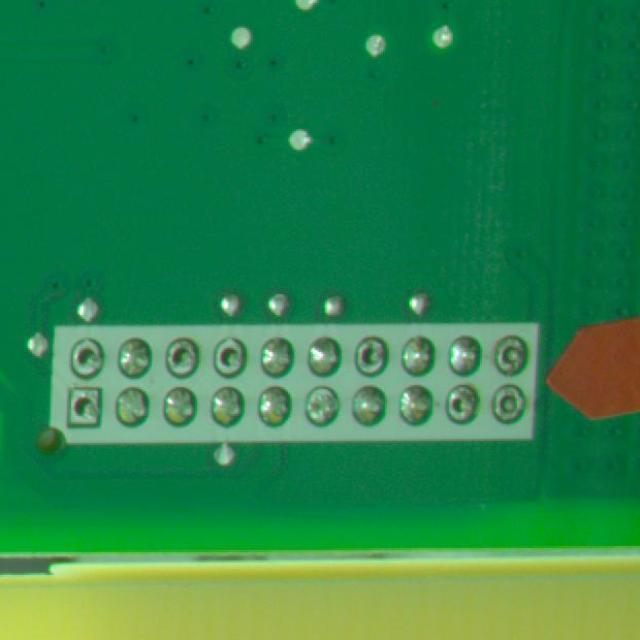Insufficient solder: (158, 326, 202, 383), (59, 382, 102, 437), (65, 334, 106, 382), (212, 332, 248, 386), (444, 382, 480, 430), (492, 337, 530, 379), (353, 339, 390, 382), (492, 384, 528, 428)
